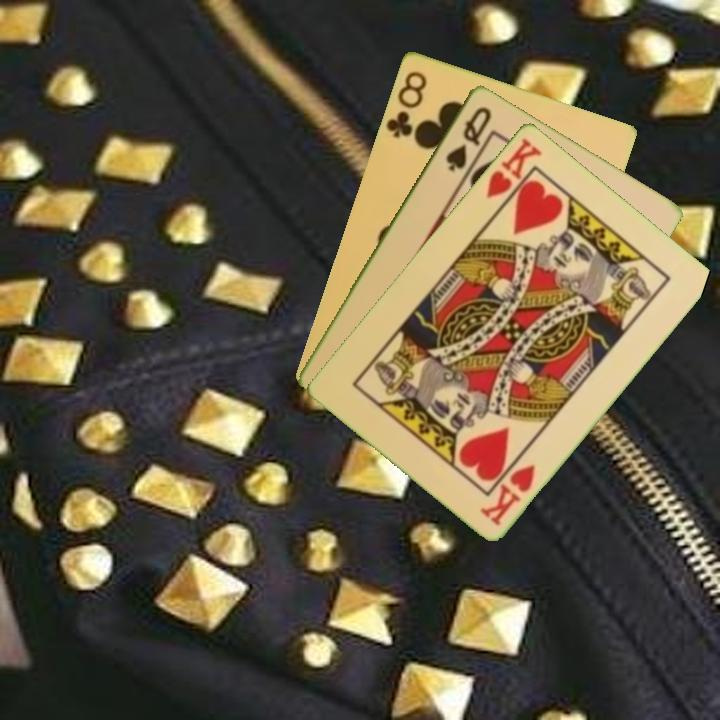8c: (382, 67, 430, 140)
Kh: (482, 133, 545, 214), (476, 460, 539, 528)
Qs: (442, 102, 495, 174)
